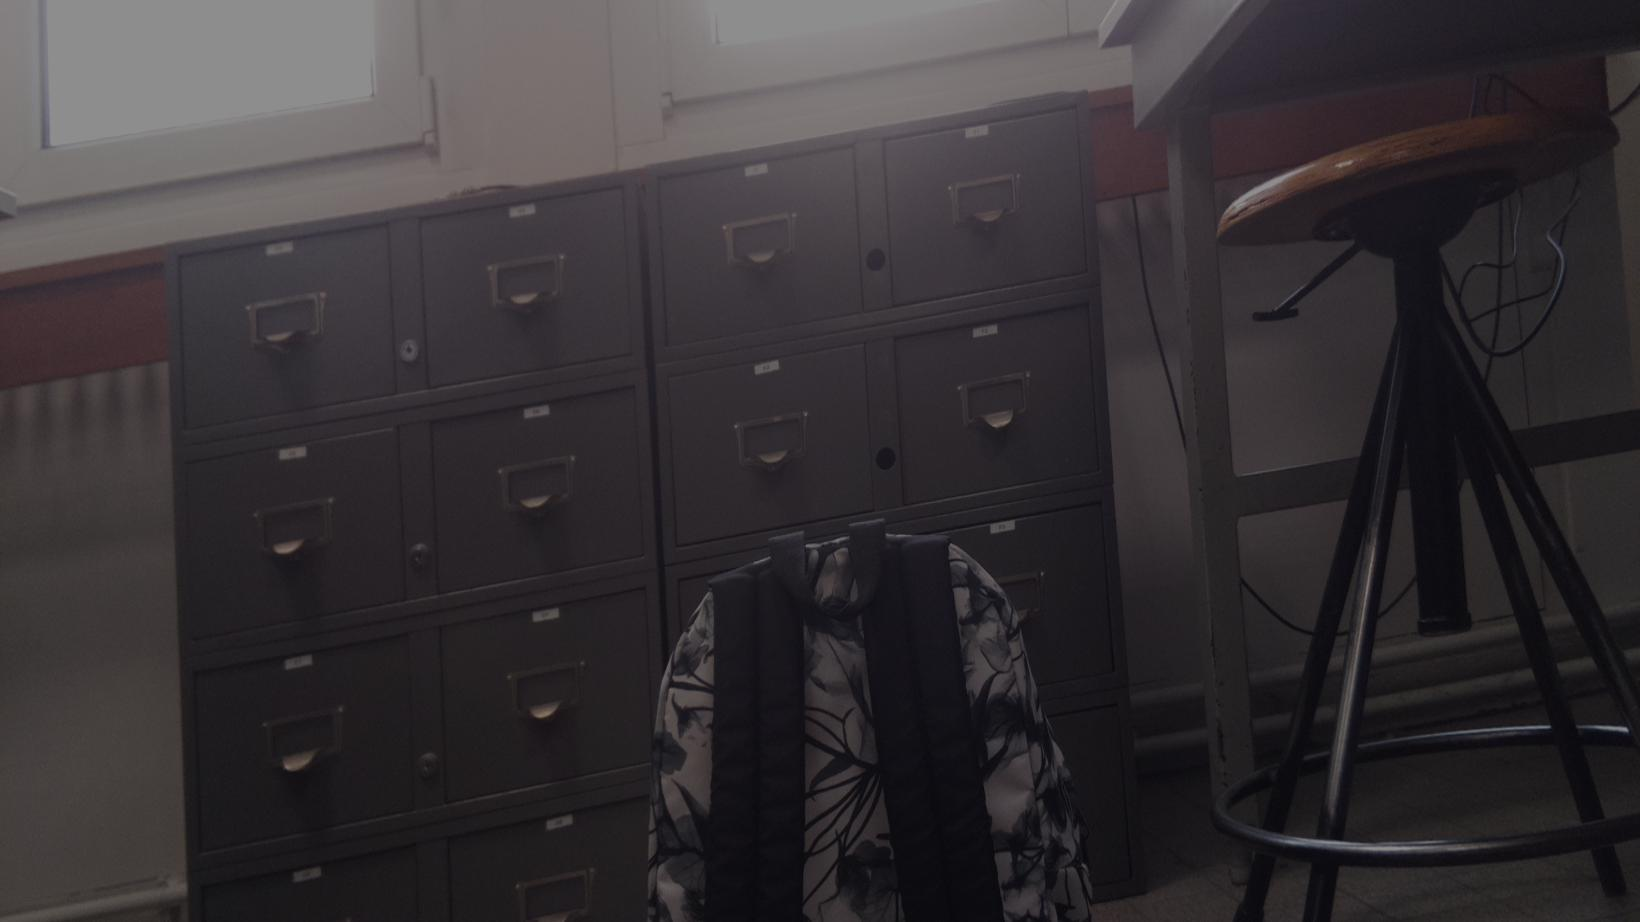big: (656, 529, 1095, 922)
